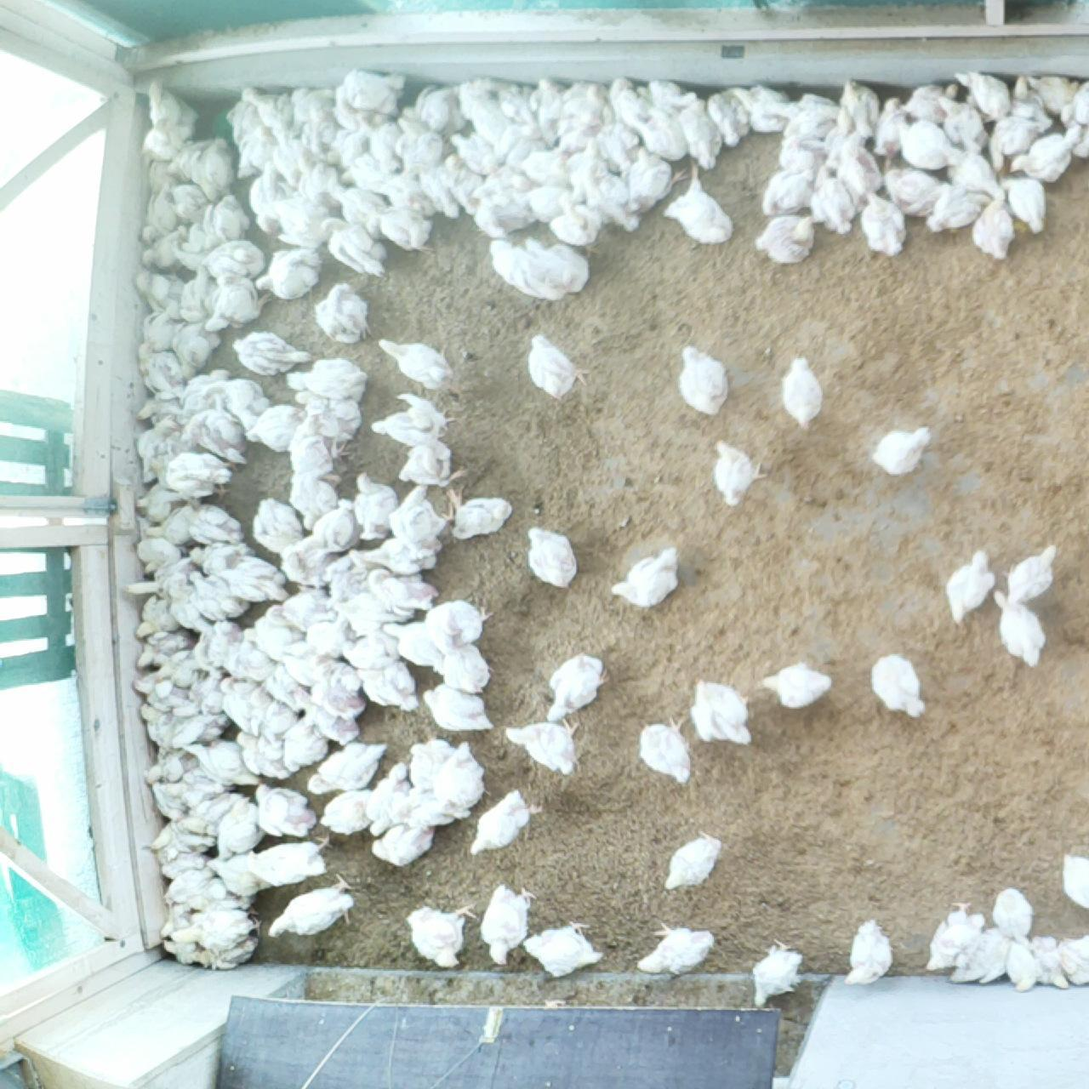chicken: (262, 871, 365, 939), (660, 157, 735, 248), (474, 875, 534, 973), (244, 828, 337, 891), (634, 917, 720, 984), (466, 787, 544, 860), (609, 545, 689, 614), (432, 735, 494, 824), (521, 915, 603, 982), (487, 238, 570, 304), (686, 676, 760, 749), (405, 899, 480, 971), (939, 544, 1002, 627), (305, 738, 390, 796), (991, 586, 1049, 671), (627, 144, 691, 221), (543, 649, 611, 721), (363, 389, 453, 443), (1009, 120, 1084, 184), (502, 716, 583, 775), (747, 934, 809, 1011), (373, 335, 458, 390), (524, 332, 587, 406), (292, 384, 366, 447), (922, 899, 985, 973), (638, 711, 699, 787), (201, 270, 272, 335), (709, 435, 771, 509), (182, 403, 253, 467), (228, 327, 316, 378), (660, 827, 726, 895), (308, 279, 372, 348), (282, 351, 369, 401), (320, 218, 391, 279), (444, 483, 513, 545), (676, 344, 731, 421), (395, 426, 468, 484), (252, 780, 322, 840), (163, 445, 238, 501), (840, 916, 895, 992), (777, 353, 830, 431), (869, 650, 927, 721), (286, 409, 351, 472), (529, 235, 596, 296), (370, 202, 439, 261), (252, 245, 322, 303), (291, 682, 359, 741), (761, 657, 838, 709), (367, 759, 416, 840), (274, 190, 339, 251), (867, 421, 935, 478), (352, 466, 400, 546), (388, 481, 447, 546), (752, 211, 819, 268), (423, 596, 496, 648), (940, 149, 1007, 205), (287, 466, 343, 533), (584, 162, 639, 230), (215, 555, 294, 602), (703, 80, 756, 150), (379, 617, 445, 673), (524, 524, 580, 590), (332, 590, 414, 635), (170, 910, 262, 950), (470, 193, 545, 242), (995, 174, 1054, 236), (358, 535, 445, 577), (420, 682, 493, 732), (364, 819, 434, 871), (899, 118, 965, 173), (244, 604, 311, 658), (182, 737, 262, 782), (524, 76, 572, 151), (859, 189, 911, 258), (677, 96, 724, 172), (547, 191, 606, 251), (248, 493, 306, 554), (934, 91, 991, 153), (187, 568, 251, 623), (949, 925, 1007, 985), (594, 101, 643, 172), (882, 165, 946, 219), (810, 167, 860, 236), (365, 567, 440, 613), (1007, 545, 1062, 607), (341, 66, 409, 116), (216, 795, 265, 864), (241, 403, 307, 454), (357, 660, 423, 711), (758, 163, 818, 219), (133, 336, 186, 399), (968, 194, 1018, 260), (135, 416, 180, 489), (840, 130, 889, 197), (729, 81, 793, 132), (278, 544, 343, 594), (413, 80, 472, 135), (901, 77, 964, 128), (221, 620, 272, 683), (318, 784, 378, 837), (433, 641, 493, 694), (242, 681, 299, 736), (206, 852, 274, 898), (926, 181, 985, 234), (120, 557, 196, 598), (371, 171, 438, 217), (989, 116, 1042, 173), (952, 67, 1009, 119), (184, 495, 244, 544), (196, 237, 267, 278), (304, 499, 355, 556), (281, 648, 359, 685), (781, 92, 845, 137), (393, 115, 441, 175), (145, 78, 199, 131), (134, 224, 191, 274), (641, 103, 690, 161), (839, 75, 882, 141), (1008, 72, 1056, 131), (444, 151, 485, 220), (565, 134, 607, 201), (235, 730, 293, 778), (404, 784, 475, 823), (248, 170, 288, 239), (403, 736, 457, 787), (1025, 71, 1083, 118), (164, 766, 232, 806), (186, 615, 227, 680), (177, 260, 218, 325), (148, 819, 214, 859), (211, 373, 275, 414), (825, 101, 864, 168), (991, 884, 1036, 942), (189, 540, 254, 580), (283, 713, 326, 773), (133, 629, 194, 671), (872, 93, 909, 162), (304, 611, 353, 663), (226, 84, 267, 146), (278, 583, 340, 624), (139, 747, 199, 789), (445, 129, 499, 175), (518, 143, 572, 189), (493, 117, 538, 171), (339, 630, 401, 669), (558, 82, 607, 131), (141, 305, 188, 356), (167, 133, 217, 180), (170, 713, 230, 752), (144, 500, 196, 545), (130, 532, 181, 577), (365, 114, 405, 171), (298, 108, 337, 166), (1031, 935, 1071, 991), (201, 934, 261, 971), (1001, 933, 1038, 993), (339, 152, 393, 193), (163, 866, 218, 906), (472, 165, 527, 205), (294, 150, 337, 201), (170, 676, 222, 718), (131, 672, 190, 709), (552, 108, 599, 154), (209, 194, 254, 242), (143, 110, 187, 159), (607, 71, 646, 126), (269, 126, 308, 181), (240, 83, 291, 125), (334, 185, 387, 225), (236, 128, 273, 185), (290, 78, 336, 123), (130, 267, 179, 309), (219, 674, 255, 731), (197, 877, 255, 912), (330, 116, 369, 167), (637, 78, 703, 108), (424, 167, 460, 222), (172, 320, 214, 367), (133, 595, 176, 640), (264, 664, 309, 707), (143, 183, 174, 244), (165, 585, 207, 630), (1059, 851, 1089, 914), (135, 699, 176, 745), (1057, 931, 1089, 989), (778, 132, 828, 169), (170, 180, 213, 223), (133, 480, 174, 525), (332, 546, 374, 589), (155, 648, 197, 690), (469, 97, 510, 139), (496, 80, 537, 122), (187, 147, 218, 202), (155, 847, 208, 879), (134, 386, 185, 419), (187, 790, 243, 820), (205, 135, 231, 197), (186, 364, 225, 405), (182, 219, 217, 254), (156, 902, 188, 939), (161, 939, 201, 966), (149, 158, 175, 194), (135, 512, 154, 539)
